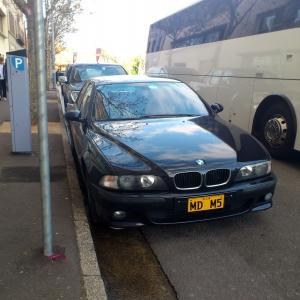Vehicle-registration-plate: (187, 196, 226, 213)
